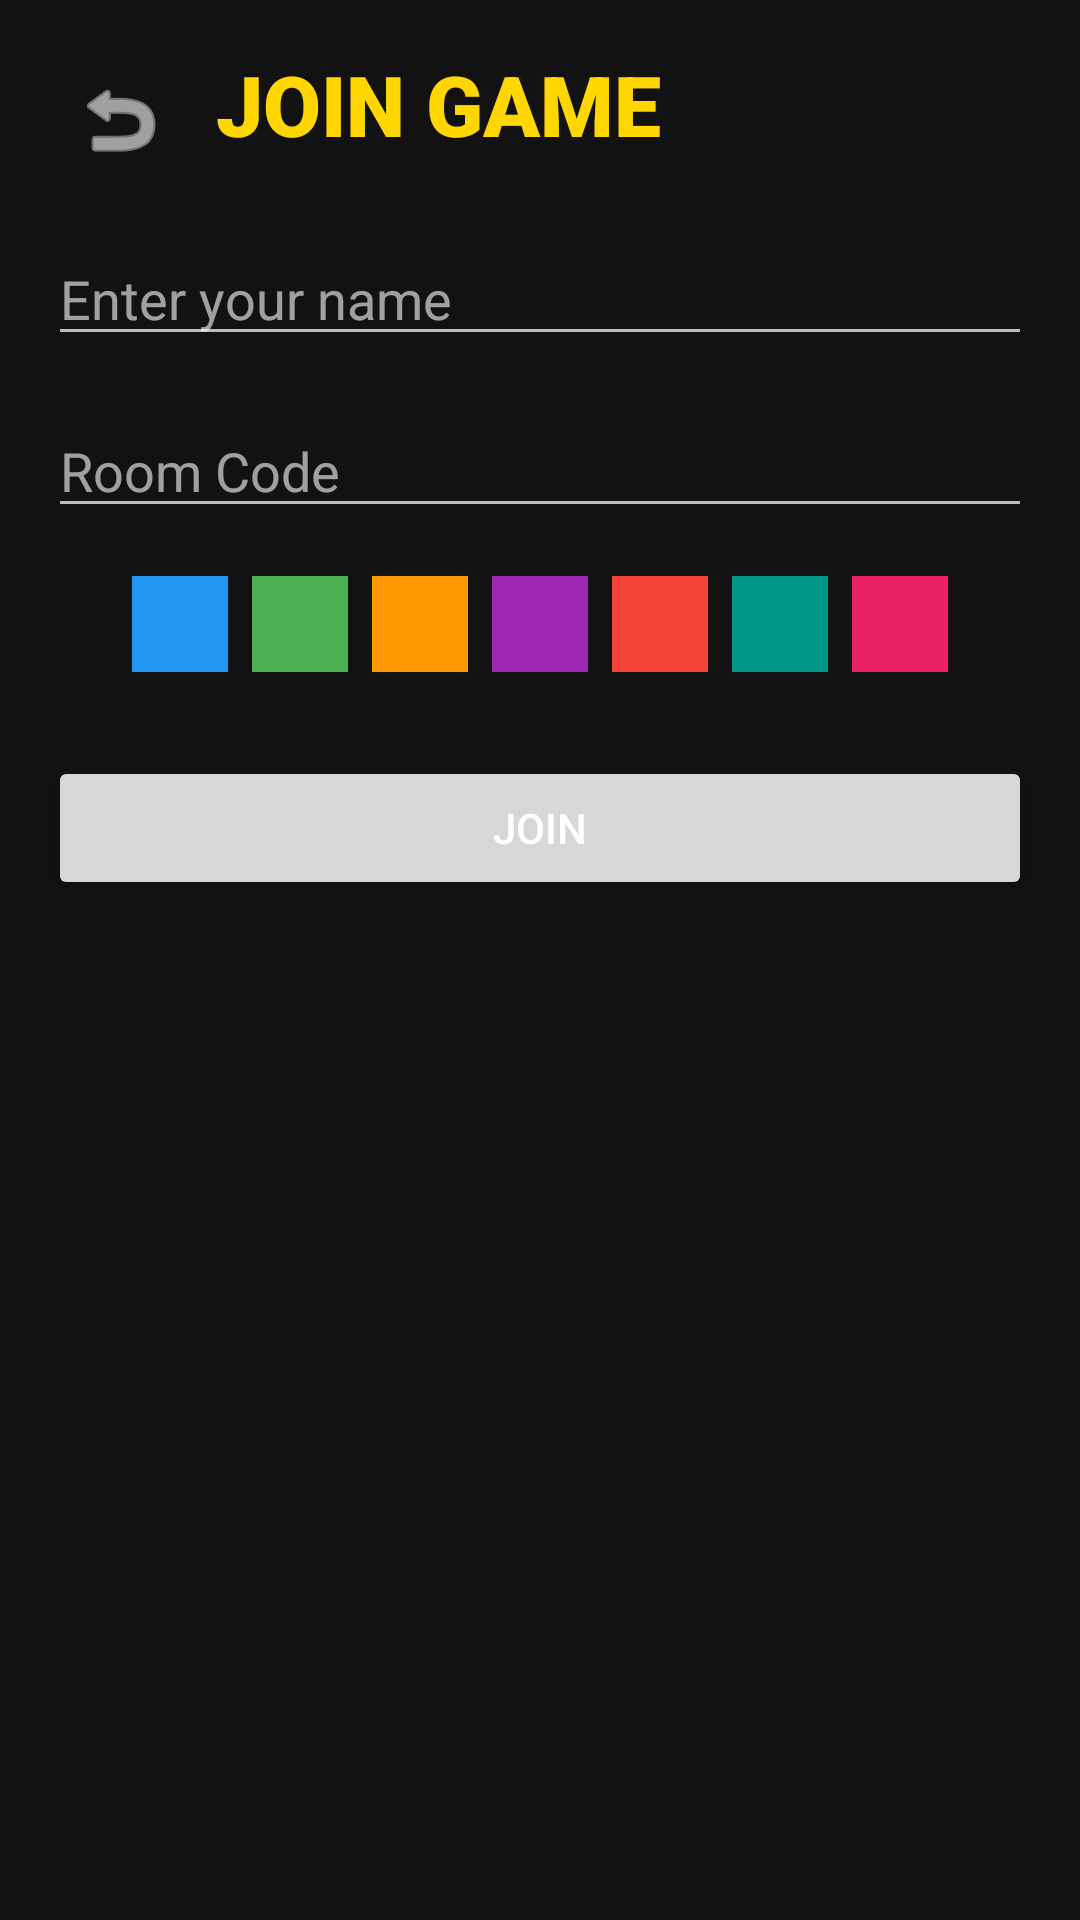

Icon bounding boxes for this 1080*1920 phone screenshot, format (x1,y1,x2,y2):
Back: (87,89,156,152)
